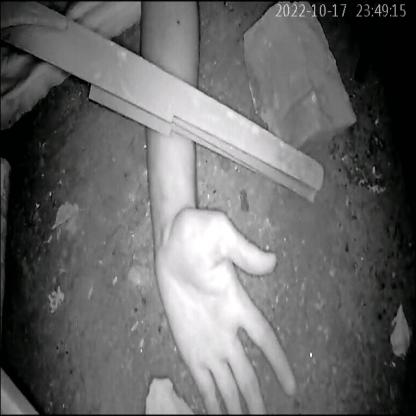hand: (105, 29, 306, 416)
